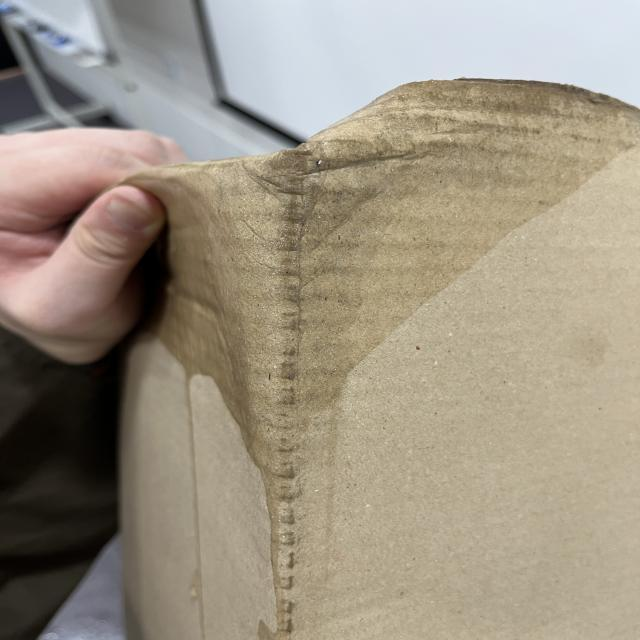wet: (165, 79, 639, 426)
